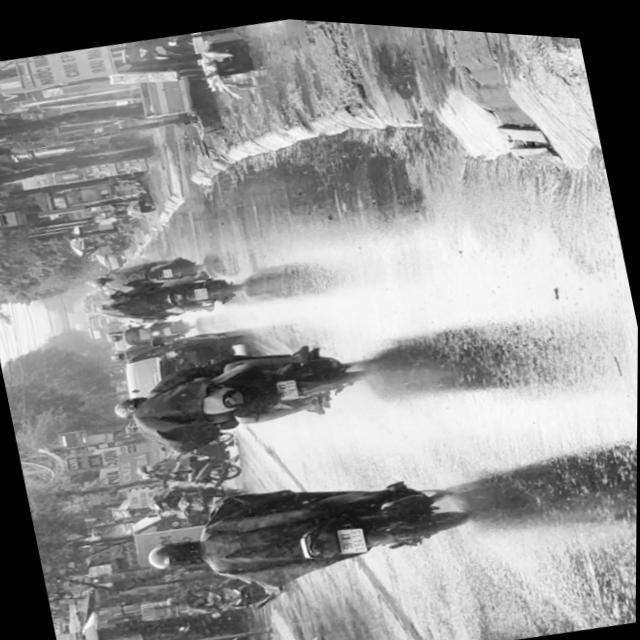helmet: (142, 533, 201, 576), (110, 395, 143, 421)
licenseplate: (132, 441, 483, 620), (99, 318, 378, 460), (155, 603, 499, 640)
nohelmet: (336, 521, 366, 552), (275, 375, 297, 398)
